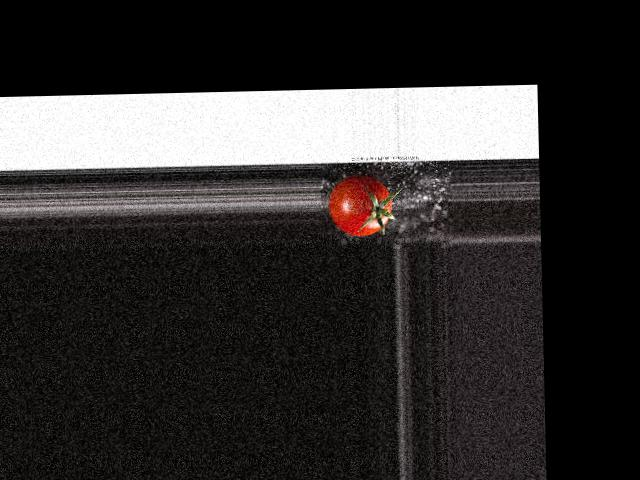tomato: (328, 174, 392, 236)
